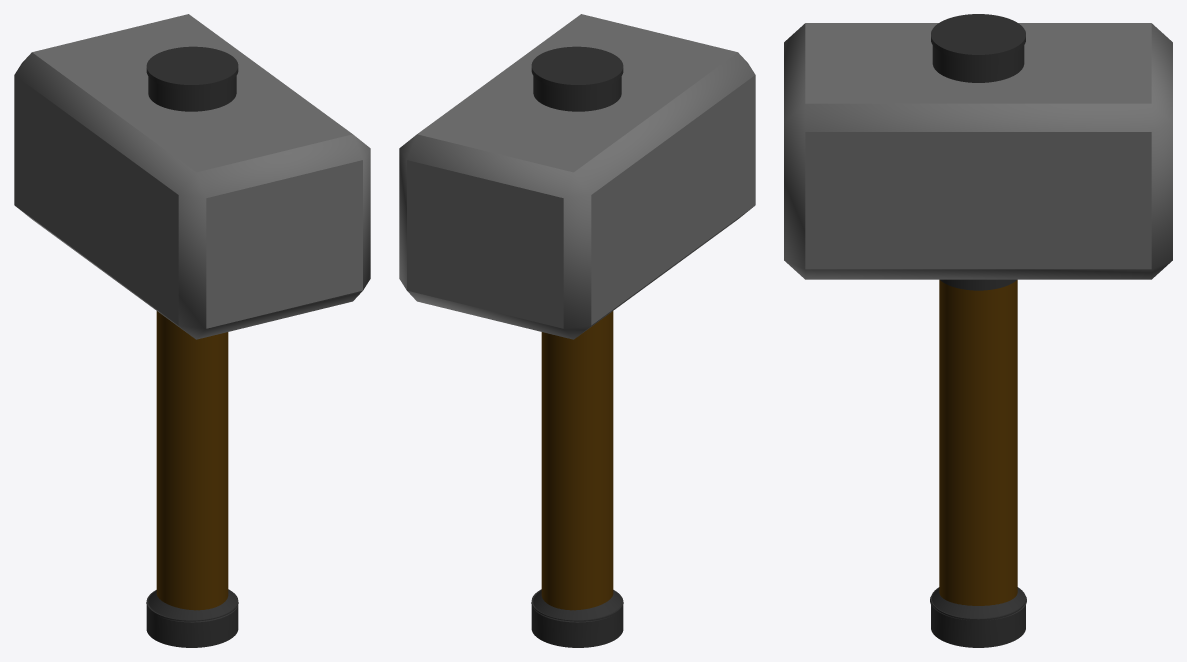
3 renders of one model, left to right at view 1: azimuth 30°, elevation 25°; view 2: azimuth 150°, elevation 25°; view 3: azimuth 270°, elevation 25°, orthographic. The views are drawn at different scales.
Visible parts, largest first — view 1: mallet; view 2: mallet; view 3: mallet.
Part boxes in pixels (left/top/right/bottom): mallet: left=14, top=14, right=370, bottom=647; mallet: left=399, top=14, right=755, bottom=647; mallet: left=784, top=14, right=1172, bottom=647.
Size of the model in its own units: 0.1248 by 0.35 by 0.208.
